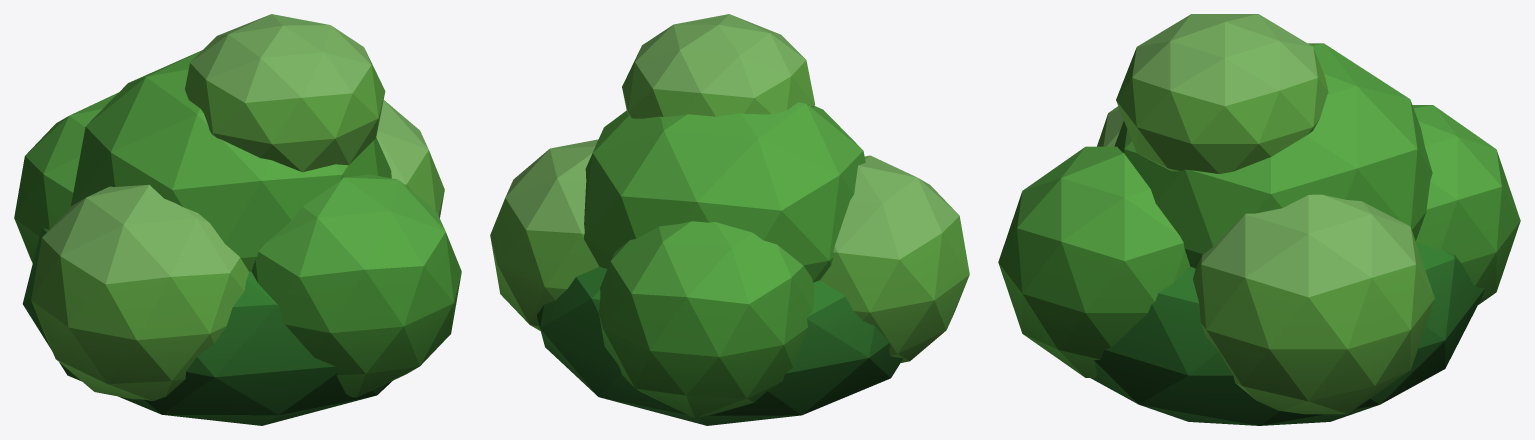
The model's file is bush.glb.
3 renders of one model, left to right at view 1: azimuth 30°, elevation 25°; view 2: azimuth 150°, elevation 25°; view 3: azimuth 270°, elevation 25°, orthographic. The views are drawn at different scales.
Visible parts, largest first — view 1: mesh_bush; view 2: mesh_bush; view 3: mesh_bush.
Part boxes in pixels (x1,y1,x2,y2): mesh_bush: [14, 14, 461, 425]; mesh_bush: [490, 14, 969, 425]; mesh_bush: [998, 14, 1520, 425].
Bounding box in the file's own units: 0.8883 × 0.75 × 0.9098.
